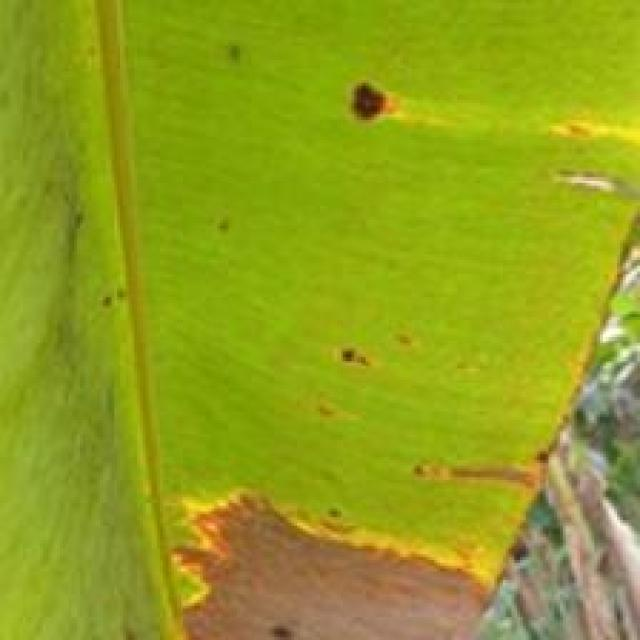Bacterial_spot: (154, 474, 500, 640), (333, 52, 417, 144), (410, 443, 544, 498), (537, 99, 640, 161), (308, 337, 404, 391), (542, 161, 632, 203)
